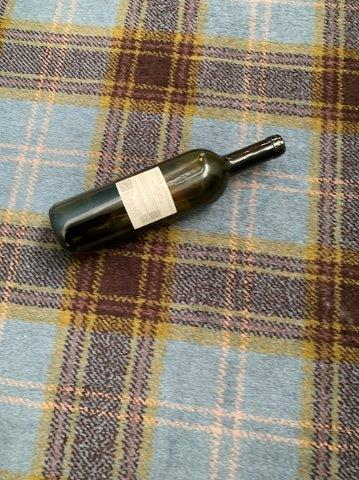botolkaca: (50, 135, 287, 250)
